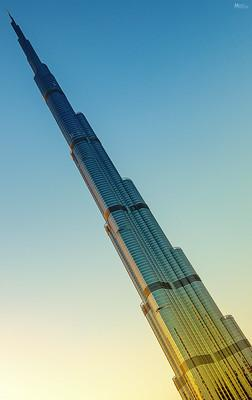building: (7, 17, 252, 399)
